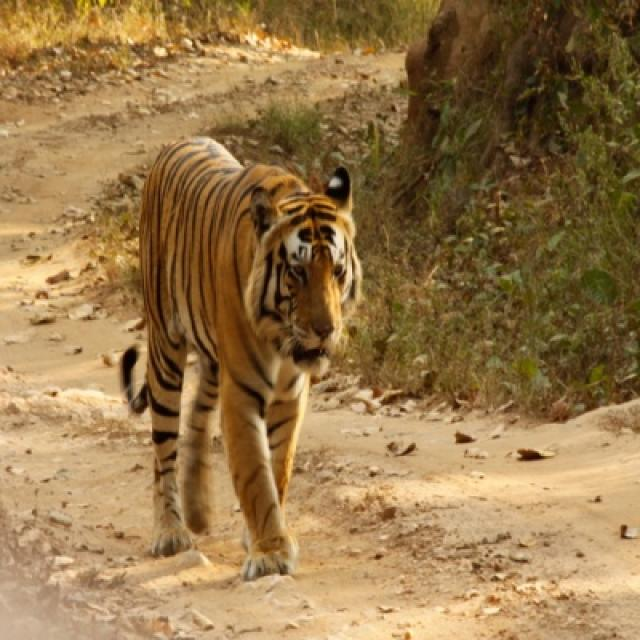Tiger: (120, 138, 362, 579)
